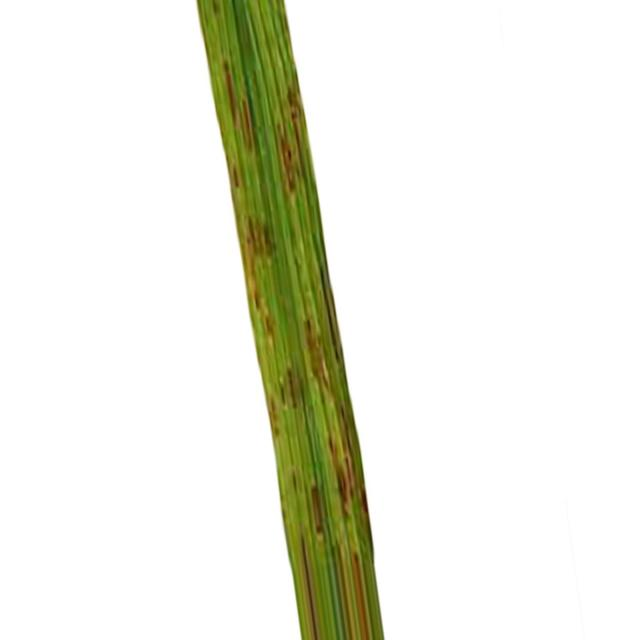Brown_Spot: (278, 131, 315, 191), (236, 212, 276, 263), (248, 284, 275, 357), (210, 56, 235, 134), (336, 456, 366, 514), (308, 324, 326, 387), (276, 372, 305, 408), (242, 105, 255, 161), (311, 484, 322, 534), (290, 85, 304, 111), (228, 165, 241, 189), (328, 428, 336, 452)
